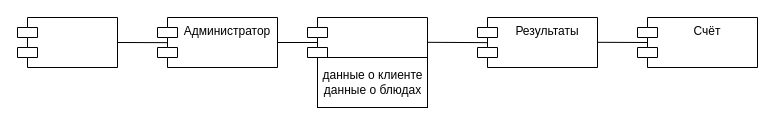
The diagram is 775 pixels wide and 125 high, and some of its shapes have lost their labels. The centre of each missing label's shape, as x and y in pixels:
"Заявка" belongs at [367,42].
"Клиент" belongs at [67,42].
